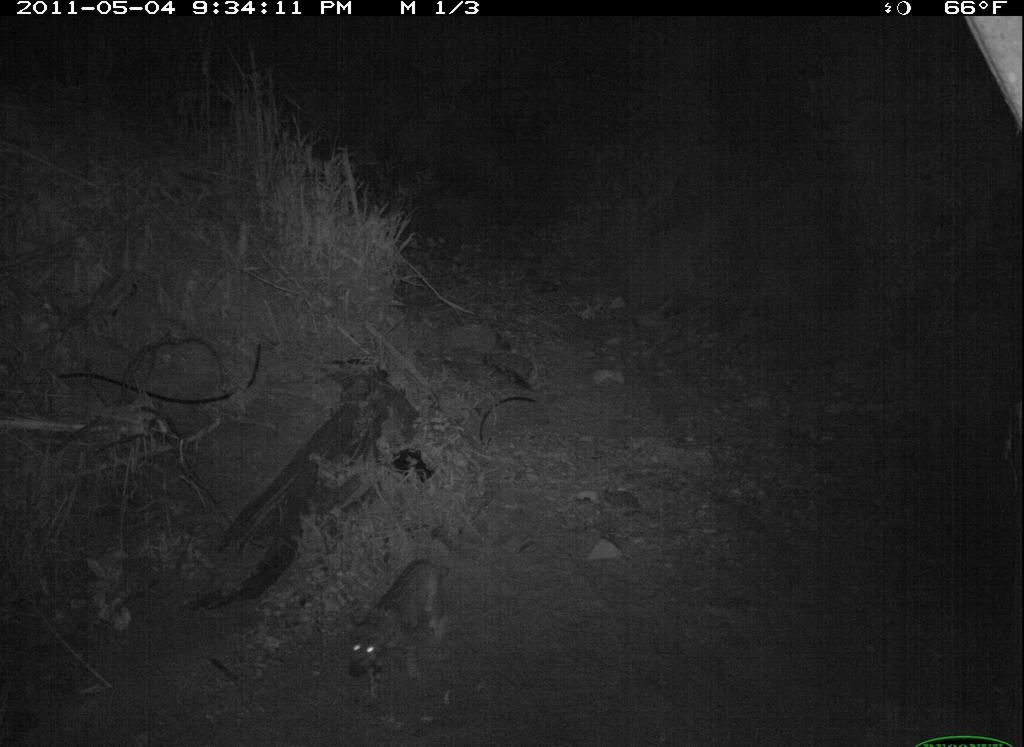bobcat: (333, 551, 459, 708)
